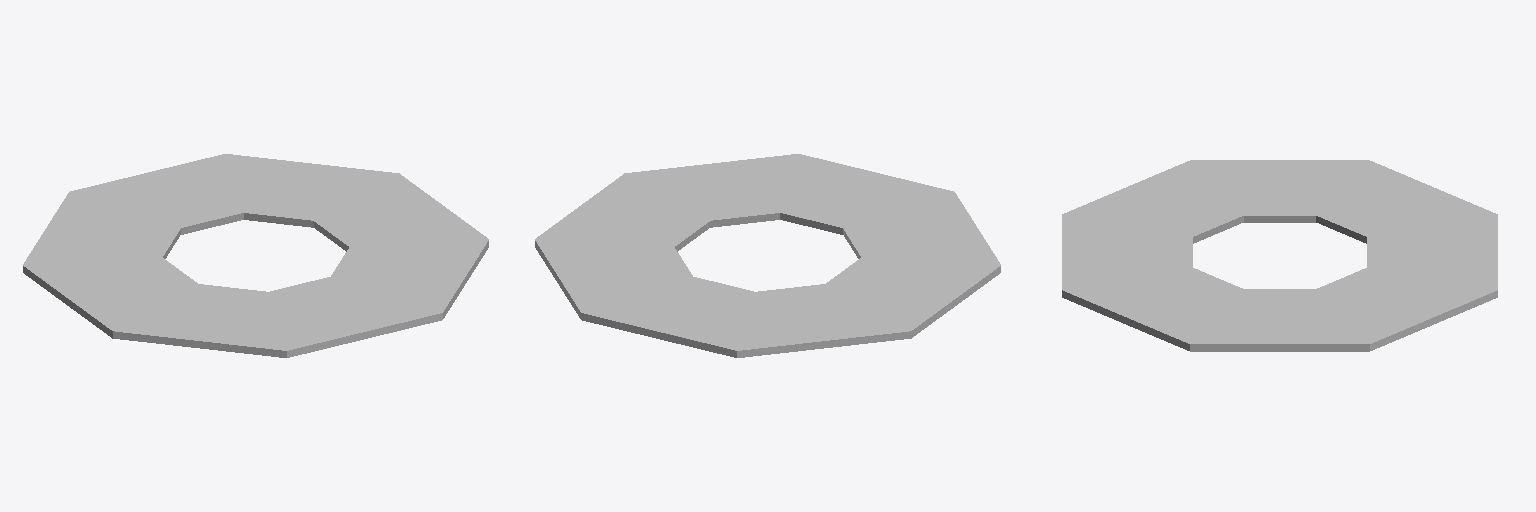
The model's file is pista_centro.obj.
The picture shows the model from 3 angles: view 1: azimuth 30°, elevation 25°; view 2: azimuth 150°, elevation 25°; view 3: azimuth 270°, elevation 25°; orthographic projection.
Visible parts, largest first — view 1: Prop.001_Cube.011; view 2: Prop.001_Cube.011; view 3: Prop.001_Cube.011.
Part boxes in pixels (x1,y1,x2,y2): Prop.001_Cube.011: (23,154,488,357); Prop.001_Cube.011: (535,154,1000,357); Prop.001_Cube.011: (1062,160,1497,351).
Size of the model in its own units: 17.44 by 0.3245 by 17.44.